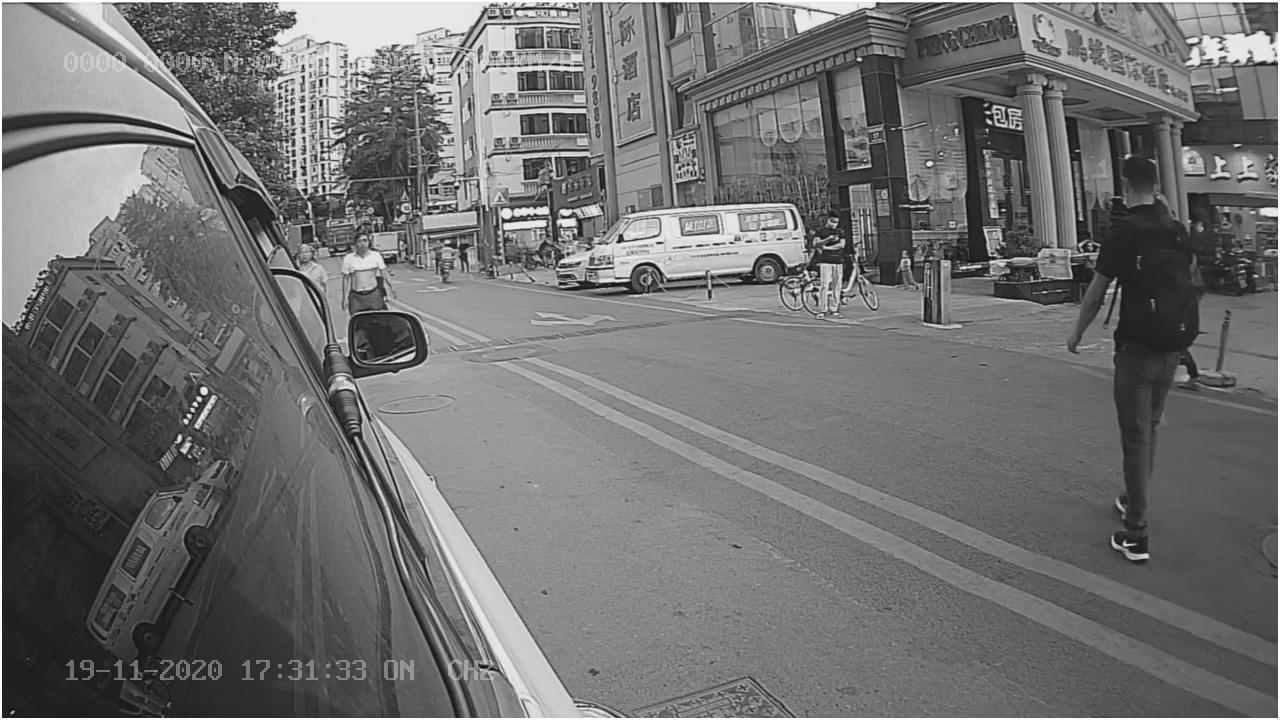person: (1076, 156, 1188, 547)
